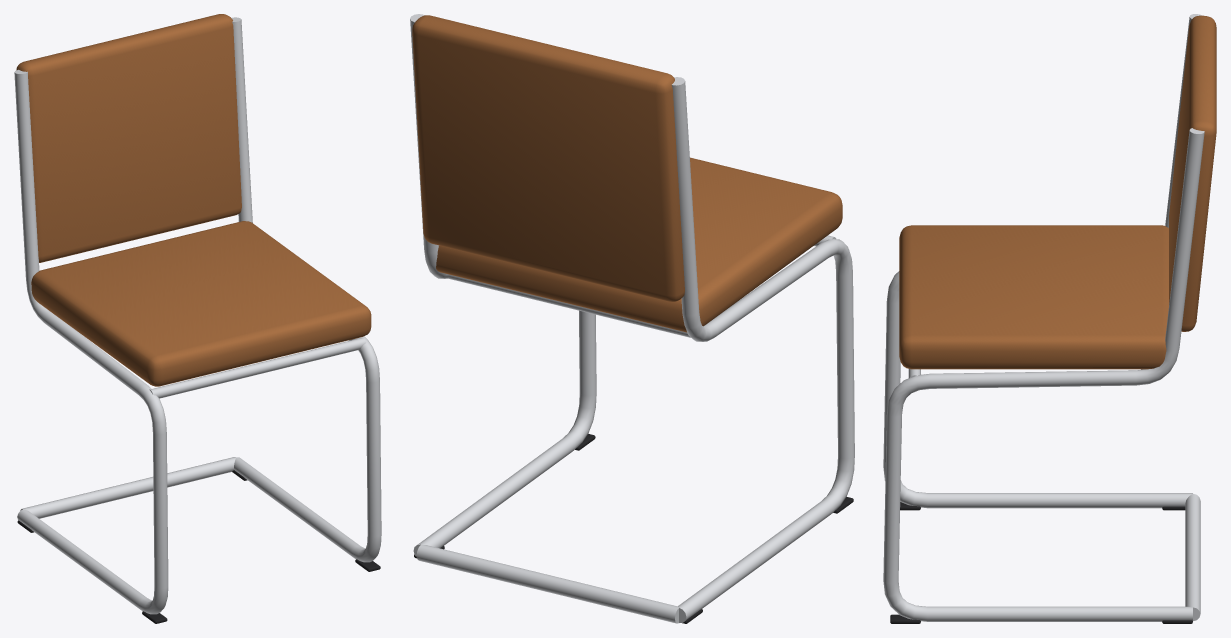
The model's file is registry_chair.gltf.
3 renders of one model, left to right at view 1: azimuth 30°, elevation 25°; view 2: azimuth 150°, elevation 25°; view 3: azimuth 270°, elevation 25°, orthographic. The views are drawn at different scales.
Parts seen in each view (by area): view 1: Upholstered back - Faux leather, black, Upholstered seat - Faux leather, black, Cantilever frame - Chrome-plated steel; view 2: Upholstered back - Faux leather, black, Cantilever frame - Chrome-plated steel, Upholstered seat - Faux leather, black; view 3: Upholstered seat - Faux leather, black, Cantilever frame - Chrome-plated steel, Upholstered back - Faux leather, black, Runner glides - Glides, black nylon / felt.
Part boxes in pixels (<box>): Upholstered back - Faux leather, black: <box>16,14,241,262</box>; Upholstered seat - Faux leather, black: <box>31,221,371,386</box>; Cantilever frame - Chrome-plated steel: <box>14,17,381,614</box>; Upholstered back - Faux leather, black: <box>412,15,684,301</box>; Cantilever frame - Chrome-plated steel: <box>410,14,854,623</box>; Upholstered seat - Faux leather, black: <box>436,157,842,332</box>; Upholstered seat - Faux leather, black: <box>899,225,1168,369</box>; Cantilever frame - Chrome-plated steel: <box>883,14,1204,621</box>; Upholstered back - Faux leather, black: <box>1169,15,1216,331</box>; Runner glides - Glides, black nylon / felt: <box>890,502,1192,623</box>.
Size of the model in its own units: 0.466 by 0.8946 by 0.5452.
3 materials, 3 textured.
